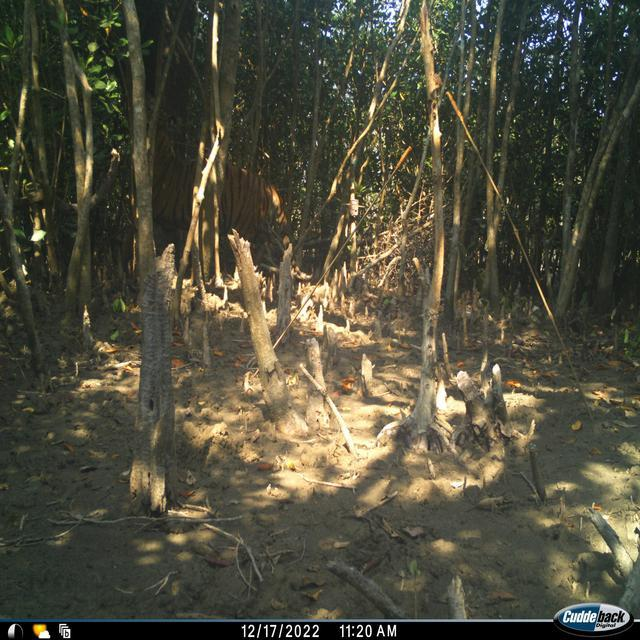tiger: (374, 376, 453, 454), (451, 361, 513, 452)
